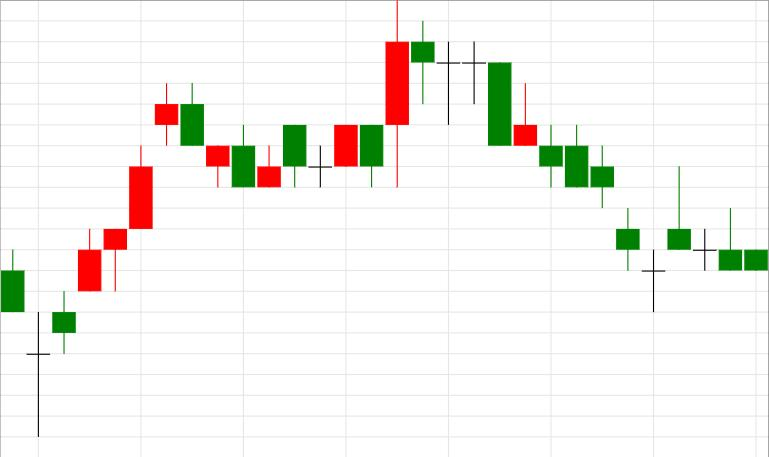bearish_engulfing_fall: (27, 84, 204, 438)
